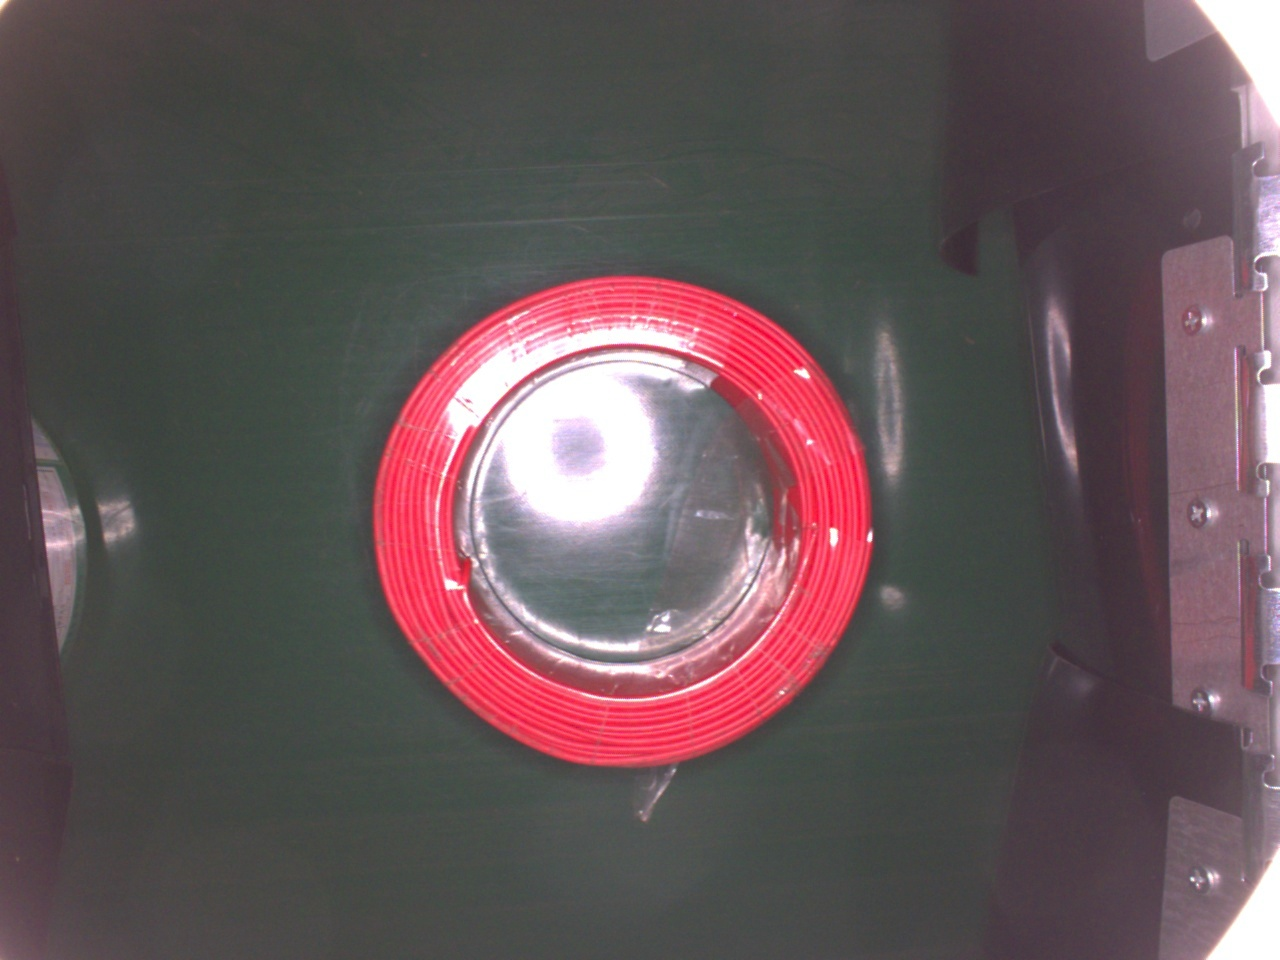red: (371, 272, 875, 767)
